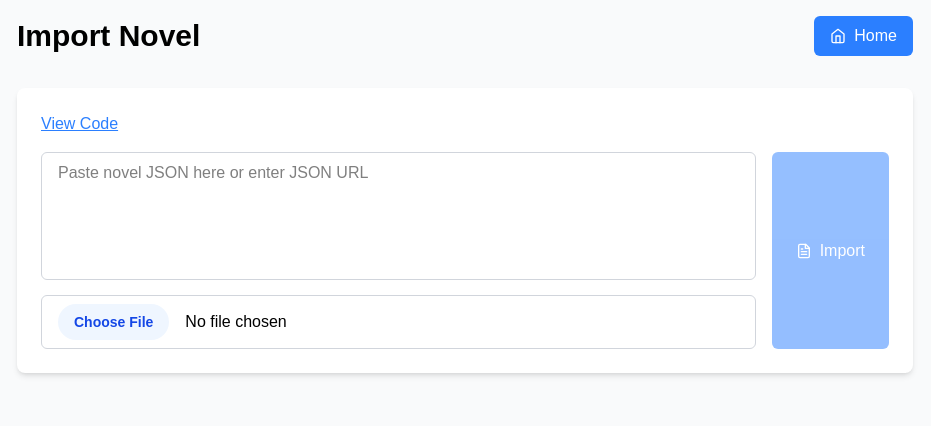
ImportPage › URL Fetch › shows error when URL is invalid
In the text box with placeholder "Paste novel JSON here or enter JSON URL": (398, 216) x1=41 y1=152 x2=756 y2=280, type "https://example.com/novel.json"
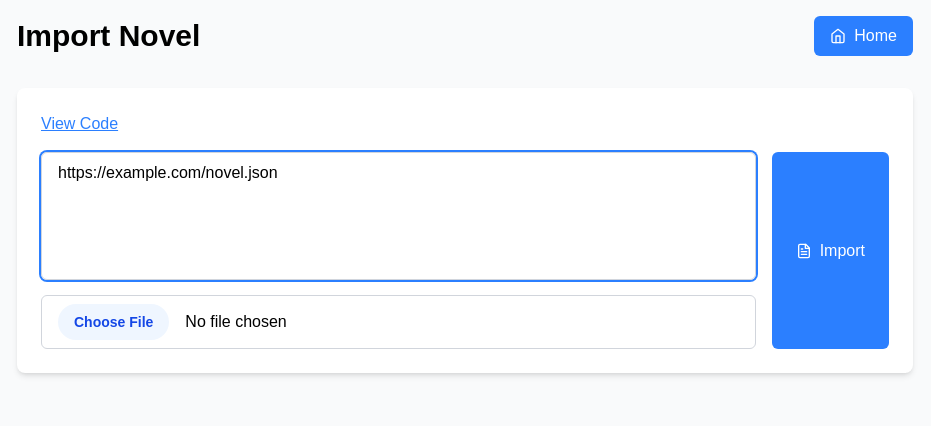
Click the button "Import": (830, 250) x1=772 y1=152 x2=889 y2=349
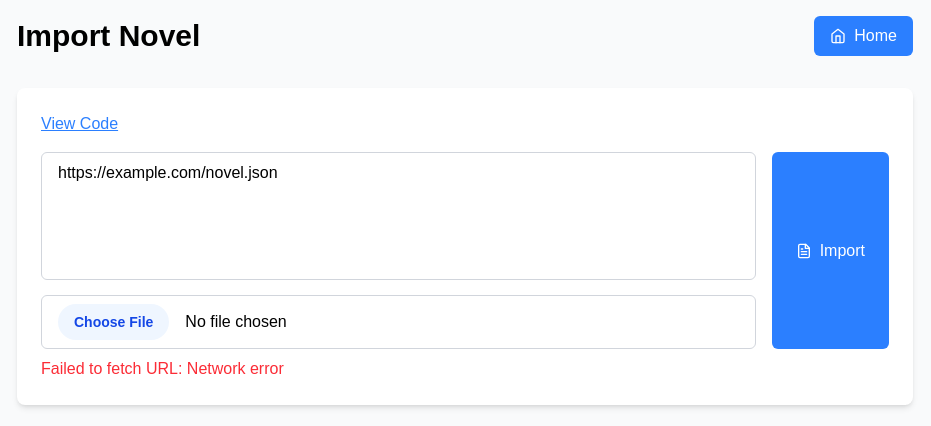
Check: the text "Failed to fetch URL: Network error" is shown, box x1=41 y1=360 x2=284 y2=377
